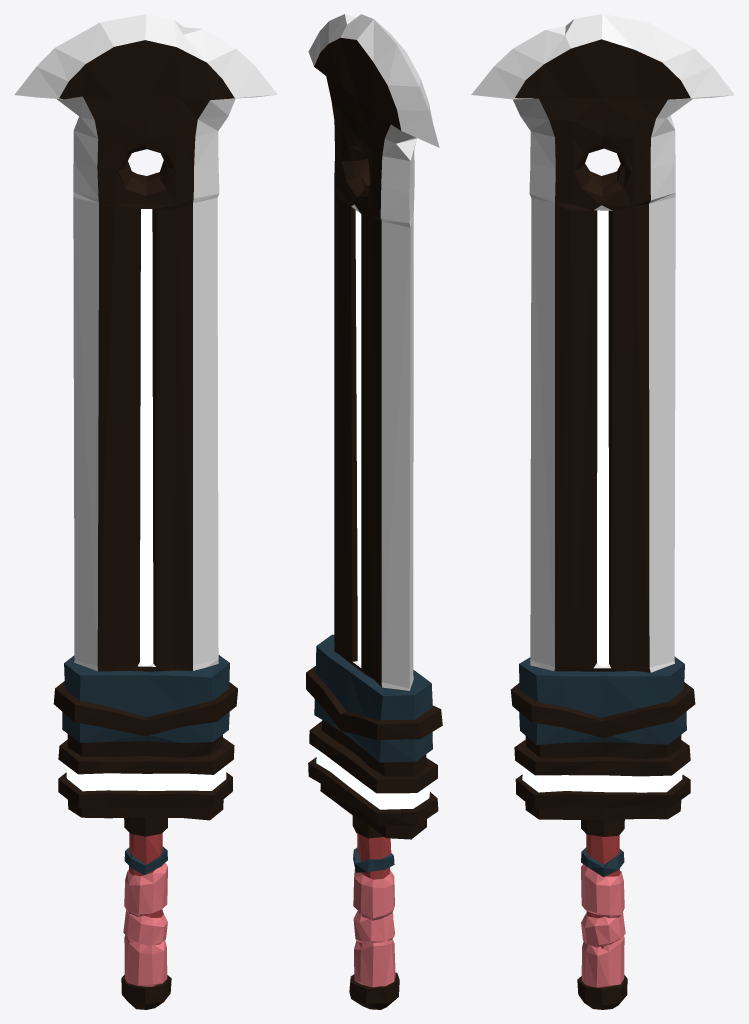
The model's file is SFFA_Weapon_Longsword_Iron_002.fbx.
3 views of the same model, side by side, from view 1: azimuth 90°, elevation 25°; view 2: azimuth 210°, elevation 25°; view 3: azimuth 270°, elevation 25° (orthographic).
Parts seen in each view (by area): view 1: SFFA_Weapon_Longsword_Iron_002; view 2: SFFA_Weapon_Longsword_Iron_002; view 3: SFFA_Weapon_Longsword_Iron_002.
Boxes of the visible parts, x1,y1,x2,y2 form: SFFA_Weapon_Longsword_Iron_002: (14,14,277,1009); SFFA_Weapon_Longsword_Iron_002: (306,14,442,1009); SFFA_Weapon_Longsword_Iron_002: (471,14,734,1009).
Size of the model in its own units: 10.93 by 153 by 36.94.
